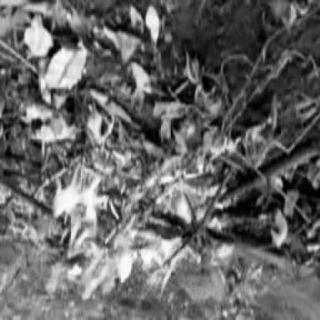Fire: (25, 145, 231, 319)
